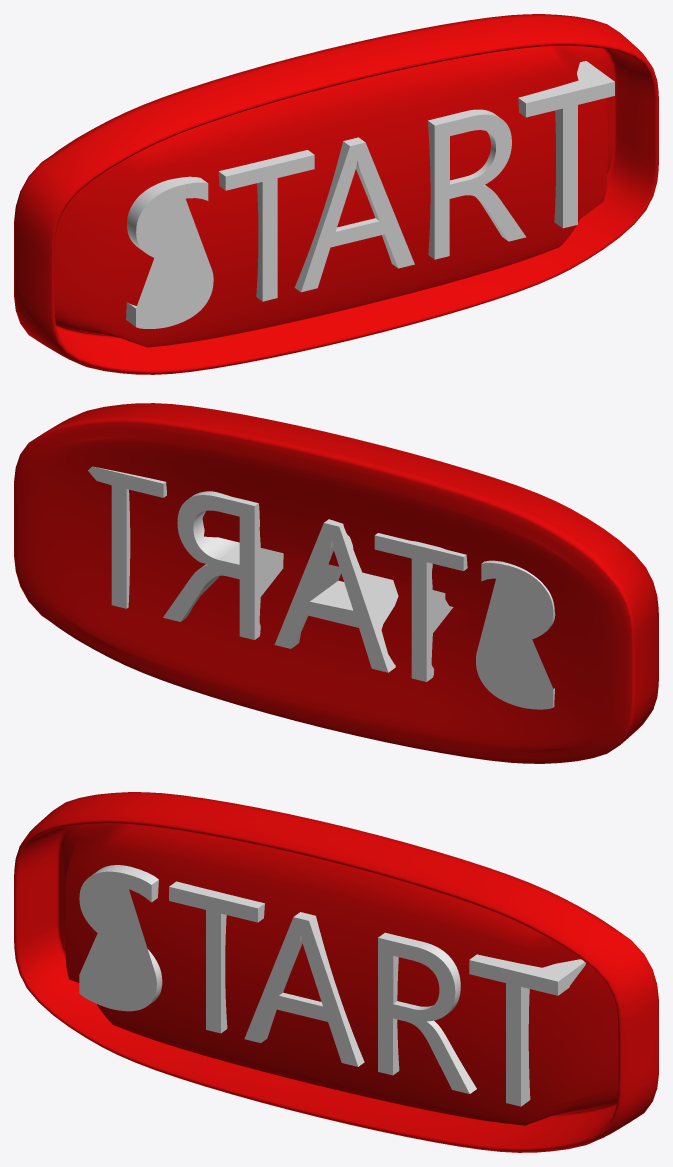
Rendered from Boton Start.fbx.
3 views of the same model, one above another, from view 1: azimuth 30°, elevation 25°; view 2: azimuth 150°, elevation 25°; view 3: azimuth 330°, elevation 25° (orthographic).
Parts seen in each view (by area): view 1: typeMesh30; view 2: typeMesh30; view 3: typeMesh30.
Part boxes in pixels (bbox=[...]): typeMesh30: bbox=[14, 14, 658, 374]; typeMesh30: bbox=[14, 403, 658, 763]; typeMesh30: bbox=[14, 792, 658, 1152].
Bounding box in the file's own units: 0.5091 × 0.215 × 0.0603.
